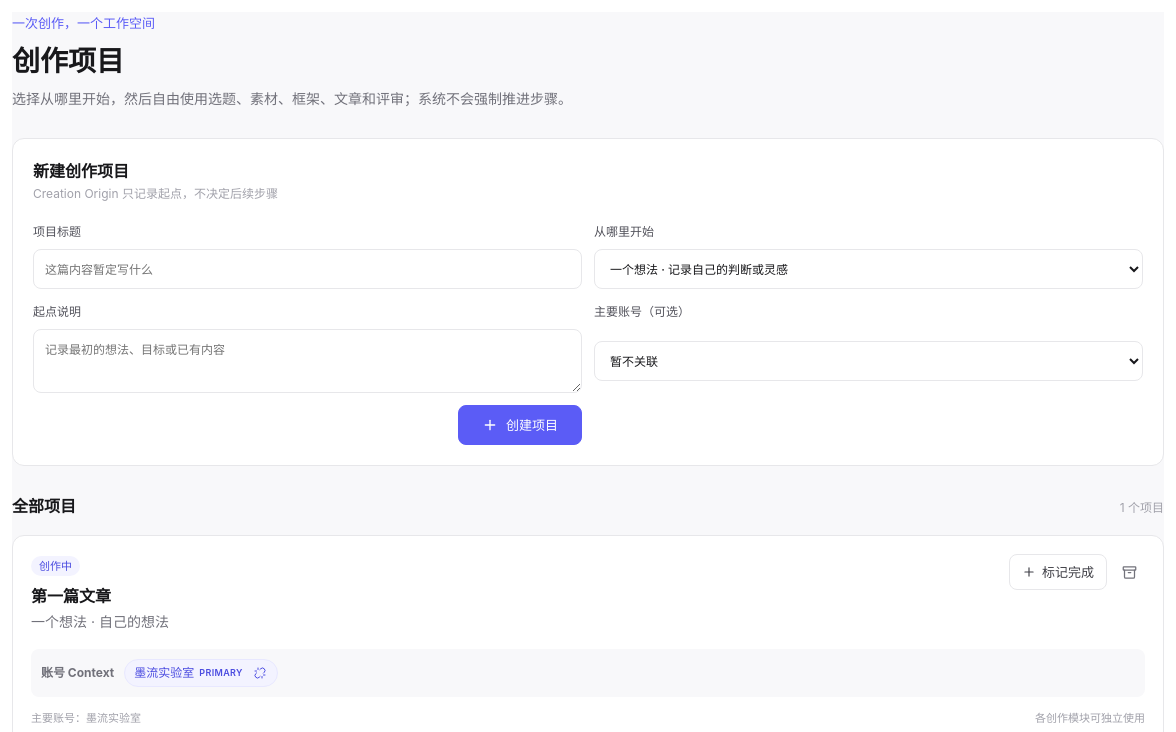
Scenario: ProjectWorkspace › marks completion only after the user clicks the explicit action
Expected: the text "创作中" is shown, 31,556 -> 80,576
Click the button "标记完成". click: [1058, 572]
box: 1009,554 -> 1107,590
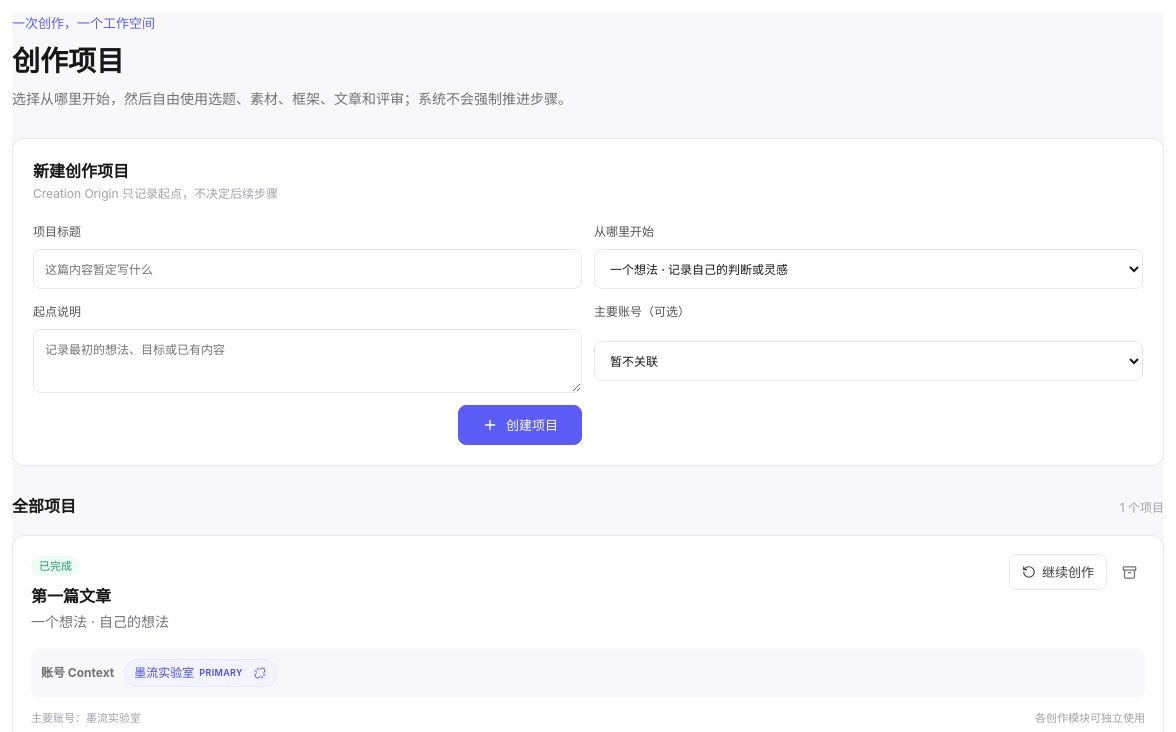
Expected: the text "已完成" is shown, 31,556 -> 80,576
